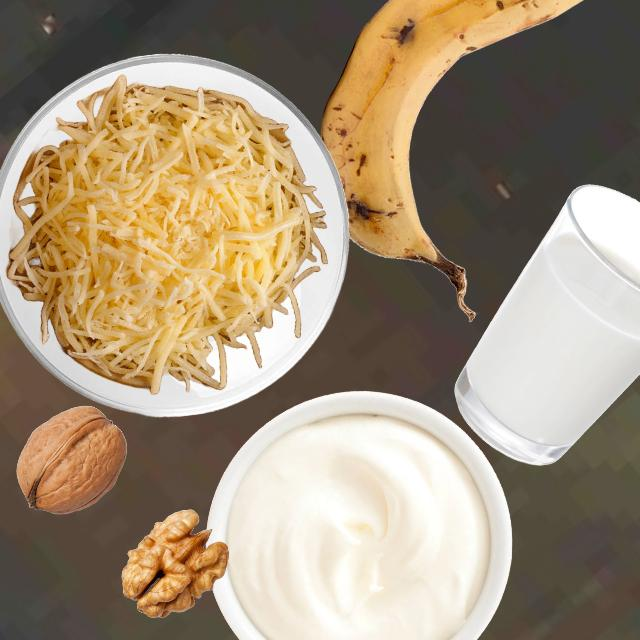Milk: (446, 146, 640, 506)
Walnut: (15, 404, 127, 515)
